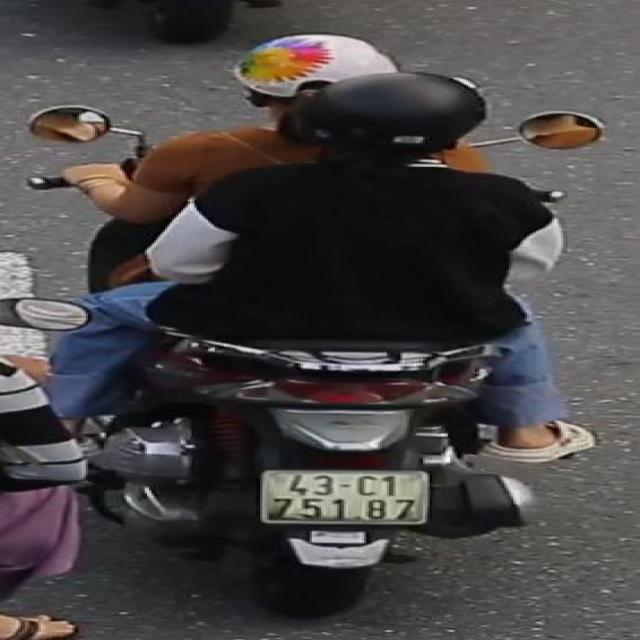LP: (249, 460, 436, 538)
helmet: (306, 69, 498, 155), (225, 26, 399, 98)
